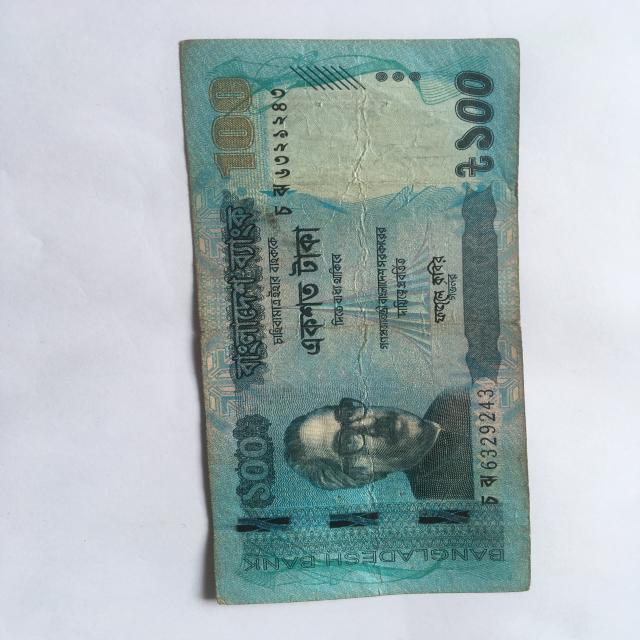Taka: (176, 33, 534, 596)
